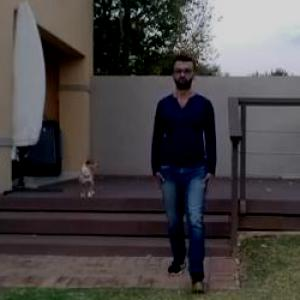follow: (160, 49, 220, 287)
